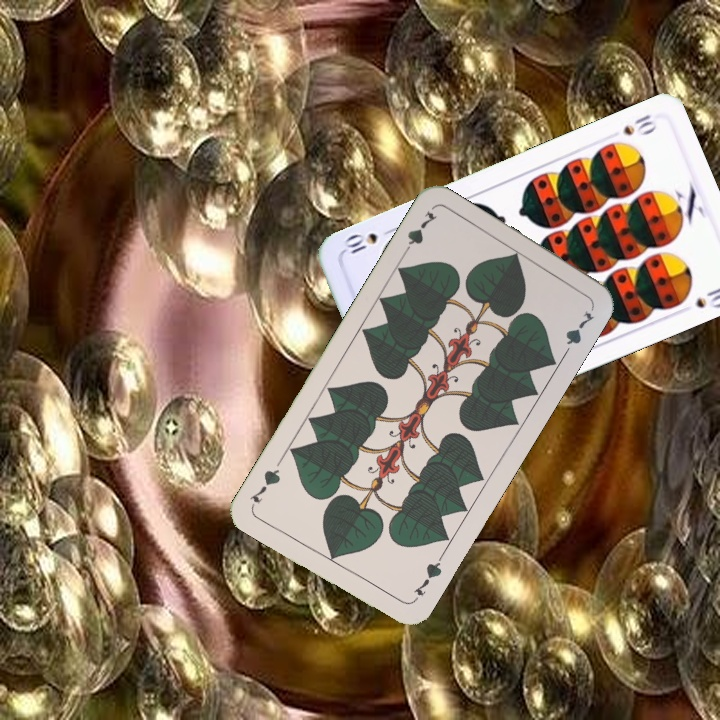G7: (398, 207, 440, 260), (409, 552, 445, 599)
S10: (619, 110, 659, 138)
